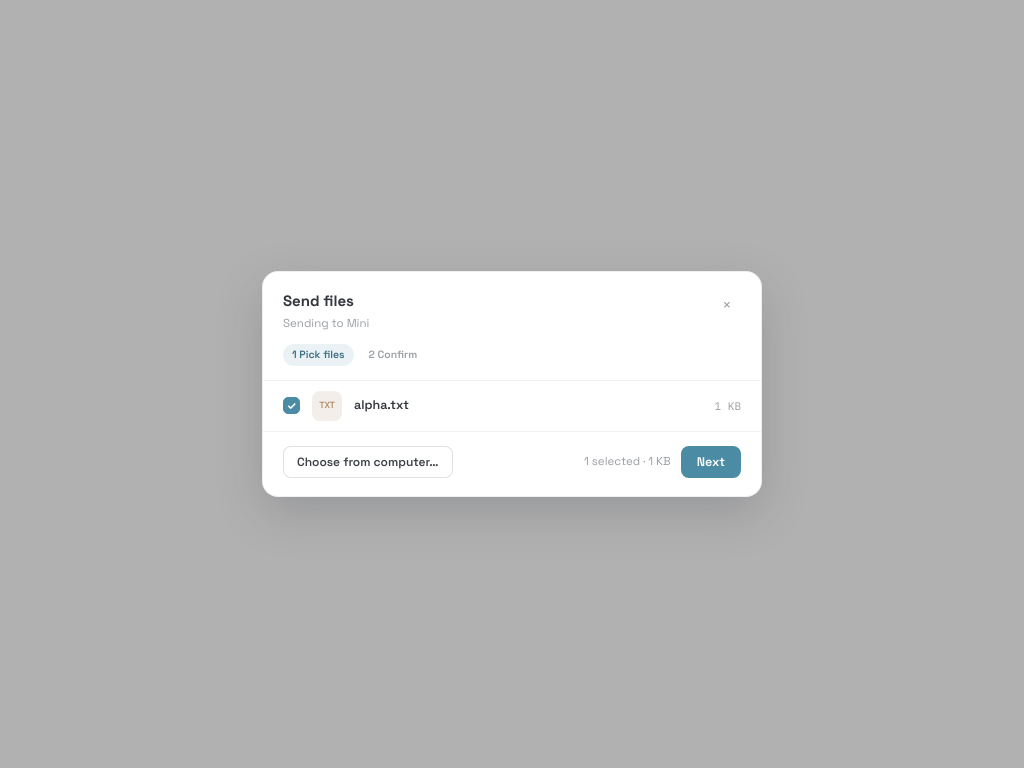
Test case: SendModal · step transitions › advances files → confirm when a device is preset
Click the button "Next".
click(711, 462)  # box 681,446 -> 741,478
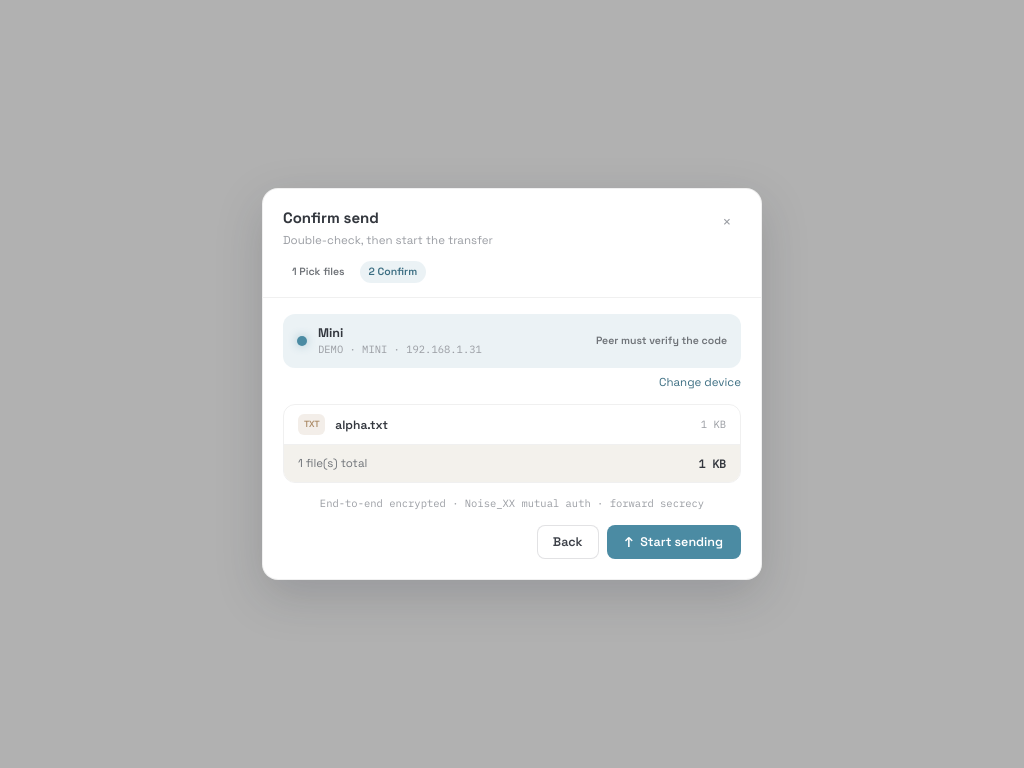
Check: the text "Confirm send" is shown, box 283,208 -> 379,227
